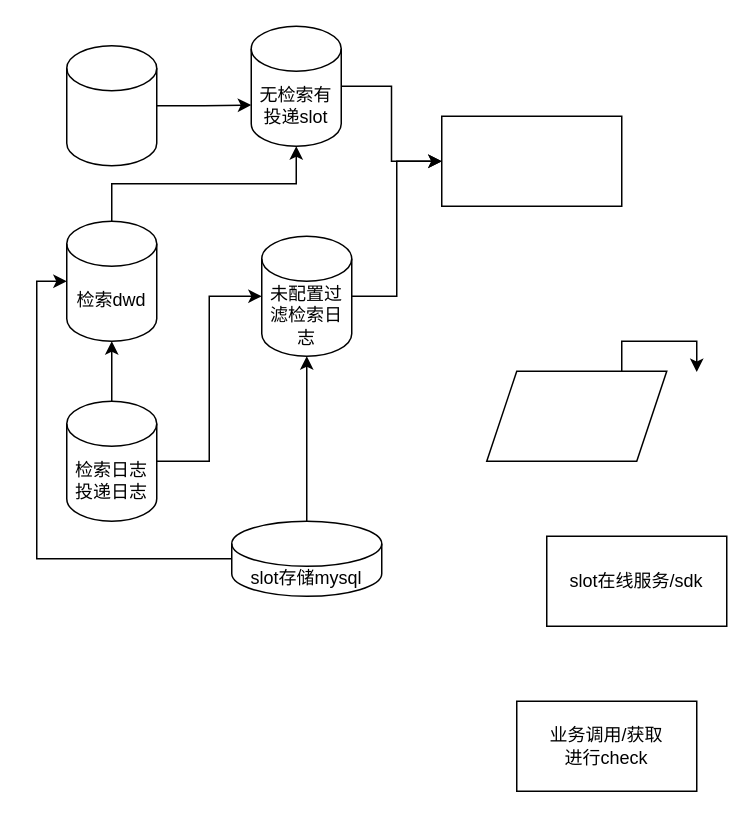
This 753x818 diagram has some shape labels left out. The shapes that lost their labels are listed below. From the top down, each one's box as (x1, y1, x2, y2) in pixels, then its label:
(65, 44, 157, 166): 投递dwd
(440, 115, 622, 206): 定时检测落mysql/邮件
(485, 370, 667, 461): slot申请页面
